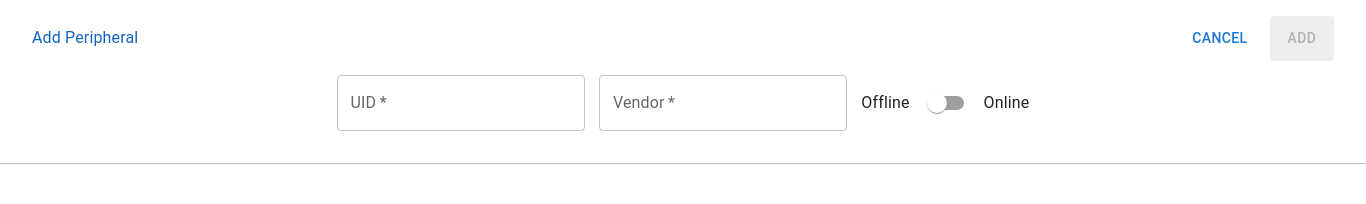
<NewGateway /> Load the NewGateway component and make sure everything is correct › displays uid validation errors
The image size is (1366, 204).
Type "11111111111111111111111111111111111111111111111111" into the number field labelled "UID *".
click(460, 103); type("11111111111111111111111111111111111111111111111111")  # box left=336, top=75, right=584, bottom=131
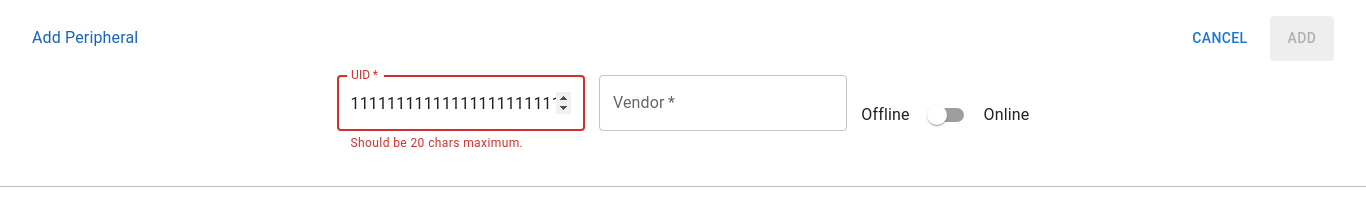
Expected: the text "Should be 20 chars maximum." is shown, left=350, top=136, right=523, bottom=150
Clear the number field labelled "UID *" at (460, 103), box left=336, top=75, right=584, bottom=131
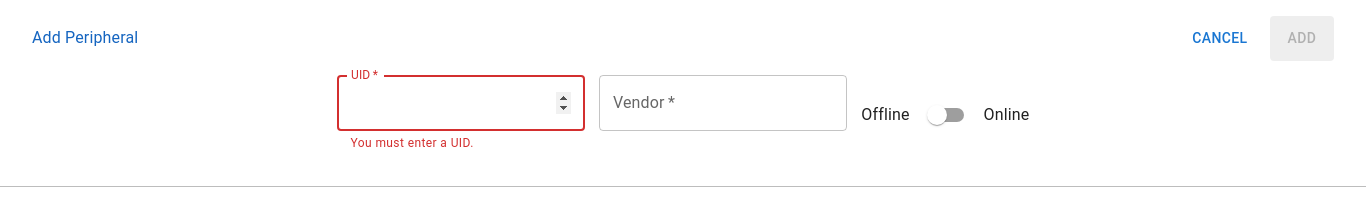
Expected: the text "You must enter a UID." is shown, left=350, top=136, right=474, bottom=150
